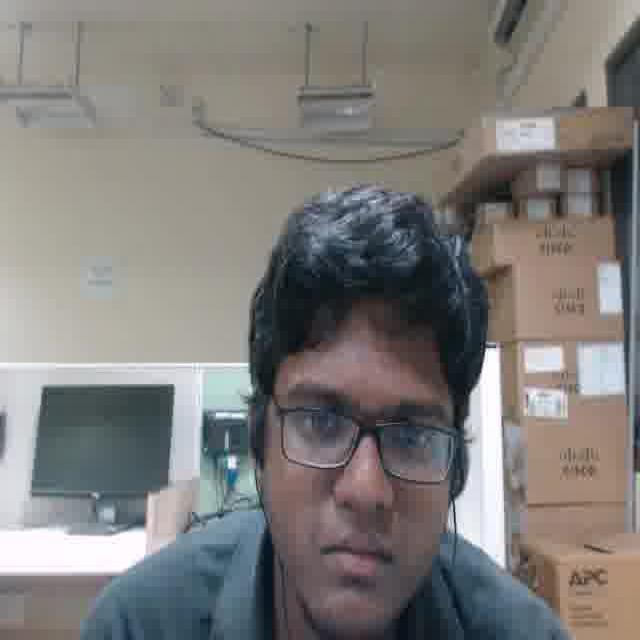Engaged: (266, 308, 451, 627)
